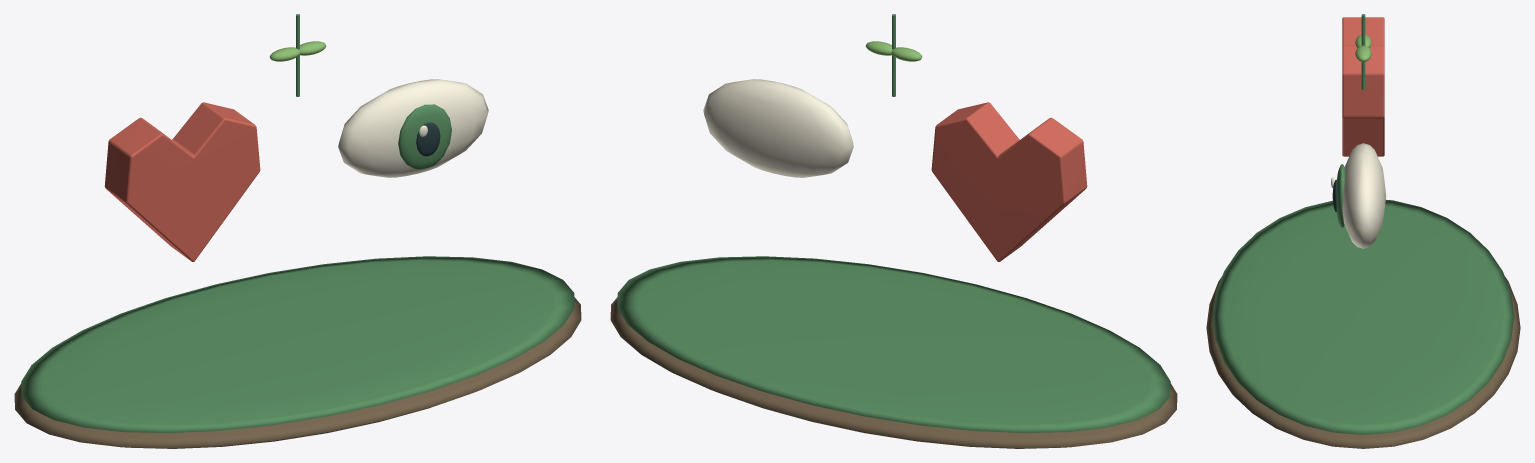
File: complete-first-hopeful-horizon.glb
3 views of the same model, side by side, from view 1: azimuth 30°, elevation 25°; view 2: azimuth 150°, elevation 25°; view 3: azimuth 270°, elevation 25° (orthographic). The views are drawn at different scales.
Visible parts, largest first — view 1: complete-first-hopeful-horizon_surface_01, complete-first-hopeful-horizon_surface_02, complete-first-hopeful-horizon_surface_00, complete-first-hopeful-horizon_surface_03, complete-first-hopeful-horizon_surface_05, complete-first-hopeful-horizon_surface_04; view 2: complete-first-hopeful-horizon_surface_01, complete-first-hopeful-horizon_surface_02, complete-first-hopeful-horizon_surface_03, complete-first-hopeful-horizon_surface_00, complete-first-hopeful-horizon_surface_05; view 3: complete-first-hopeful-horizon_surface_01, complete-first-hopeful-horizon_surface_00, complete-first-hopeful-horizon_surface_02, complete-first-hopeful-horizon_surface_03, complete-first-hopeful-horizon_surface_05.
Part boxes in pixels (box(x1,y1,x2,y2)): complete-first-hopeful-horizon_surface_01: box(21, 14, 574, 433); complete-first-hopeful-horizon_surface_02: box(104, 102, 260, 261); complete-first-hopeful-horizon_surface_00: box(14, 297, 581, 448); complete-first-hopeful-horizon_surface_03: box(338, 79, 488, 177); complete-first-hopeful-horizon_surface_05: box(269, 41, 326, 61); complete-first-hopeful-horizon_surface_04: box(416, 122, 440, 156); complete-first-hopeful-horizon_surface_01: box(617, 14, 1170, 433); complete-first-hopeful-horizon_surface_02: box(931, 102, 1087, 261); complete-first-hopeful-horizon_surface_03: box(703, 79, 853, 177); complete-first-hopeful-horizon_surface_00: box(610, 297, 1177, 448); complete-first-hopeful-horizon_surface_05: box(865, 41, 922, 61); complete-first-hopeful-horizon_surface_01: box(1212, 14, 1514, 434); complete-first-hopeful-horizon_surface_00: box(1206, 277, 1520, 448); complete-first-hopeful-horizon_surface_02: box(1342, 17, 1384, 156); complete-first-hopeful-horizon_surface_03: box(1331, 143, 1386, 248); complete-first-hopeful-horizon_surface_05: box(1355, 35, 1371, 61).
Size of the model in its own units: 4.56 by 2.88 by 2.5.
